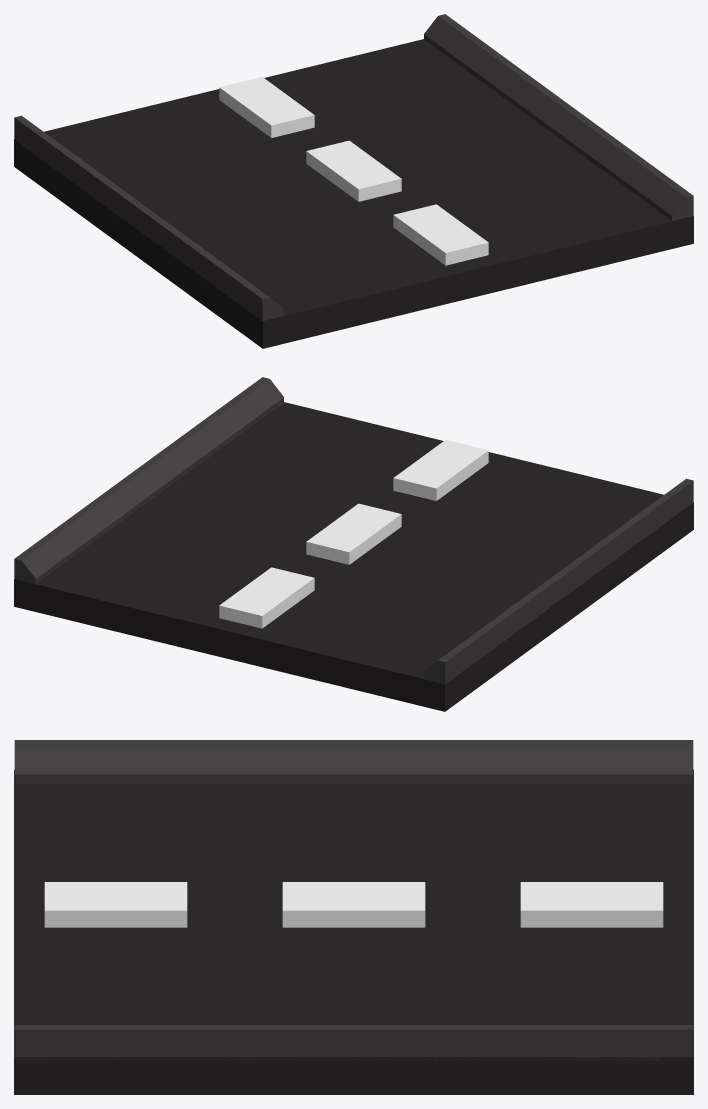
File: road-2oo.obj
The picture shows the model from 3 angles, top to bottom: view 1: azimuth 30°, elevation 25°; view 2: azimuth 150°, elevation 25°; view 3: azimuth 270°, elevation 25°; orthographic projection. The views are drawn at different scales.
Visible parts, largest first — view 1: Cube, Cube.004, Cube.005, Cube.001, Cube.002, Cube.003; view 2: Cube, Cube.004, Cube.005, Cube.002, Cube.003, Cube.001; view 3: Cube, Cube.005, Cube.004, Cube.001, Cube.002, Cube.003.
Boxes of the visible parts, bbox=[...] form: Cube: bbox=[14, 39, 693, 348]; Cube.004: bbox=[424, 14, 693, 220]; Cube.005: bbox=[14, 115, 283, 320]; Cube.001: bbox=[393, 204, 488, 265]; Cube.002: bbox=[306, 140, 401, 201]; Cube.003: bbox=[219, 77, 314, 137]; Cube: bbox=[14, 402, 693, 711]; Cube.004: bbox=[14, 377, 283, 583]; Cube.005: bbox=[424, 478, 693, 684]; Cube.002: bbox=[306, 503, 401, 564]; Cube.003: bbox=[219, 567, 314, 628]; Cube.001: bbox=[393, 440, 488, 500]; Cube: bbox=[14, 769, 693, 1094]; Cube.005: bbox=[14, 740, 693, 783]; Cube.004: bbox=[14, 1025, 693, 1060]; Cube.001: bbox=[44, 882, 187, 927]; Cube.002: bbox=[282, 882, 425, 927]; Cube.003: bbox=[520, 882, 663, 927].
Bounding box in the file's own units: 1 × 0.1096 × 1.
Materials: 1 (1 with a texture image).
